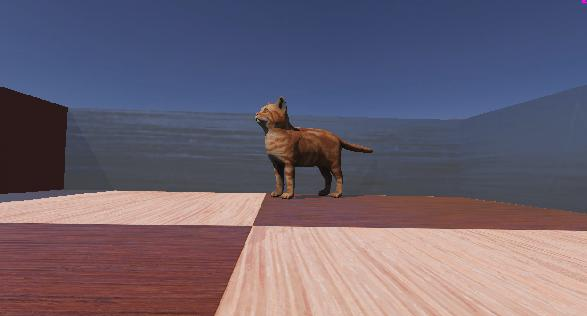Cat: (244, 90, 398, 208)
